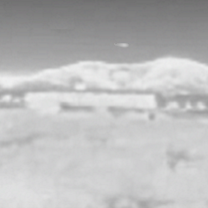Target: (115, 41, 129, 48)
